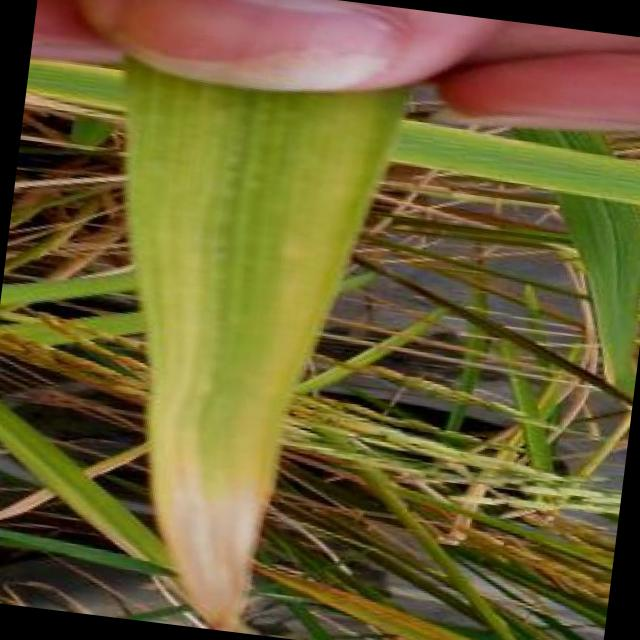Rice_Bacterial_Blight: (128, 74, 344, 500)
